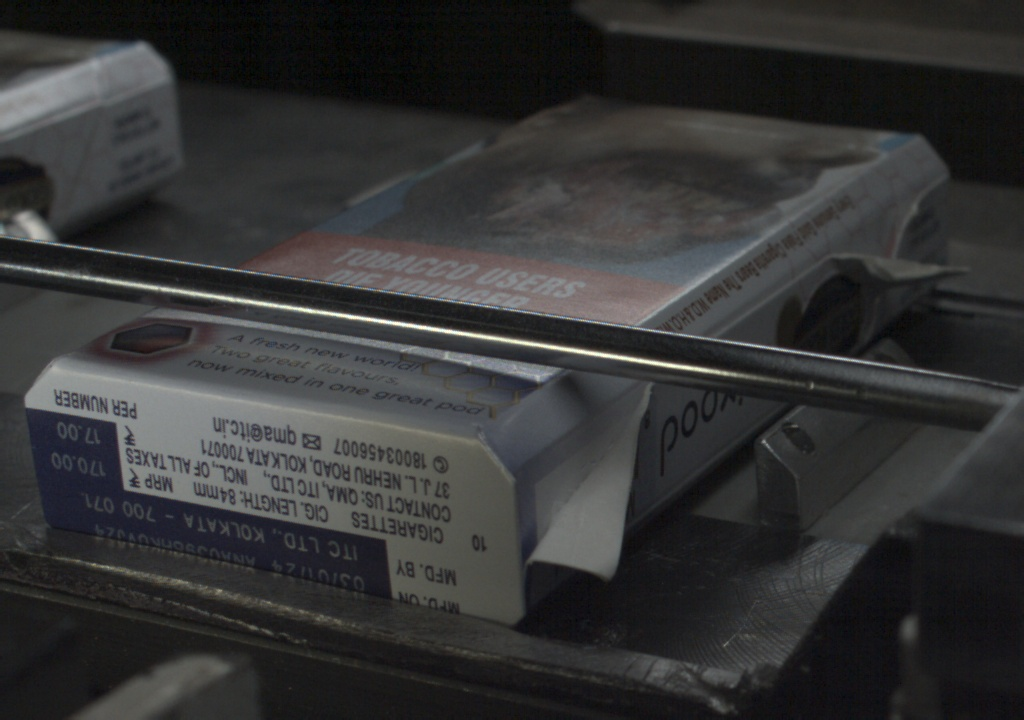g_bottom: (23, 354, 516, 628)
g_label: (39, 489, 393, 596)
ng_lmiter: (522, 382, 648, 583), (835, 248, 972, 290)
ng_miter: (889, 174, 954, 243)
price: (33, 418, 124, 488)
